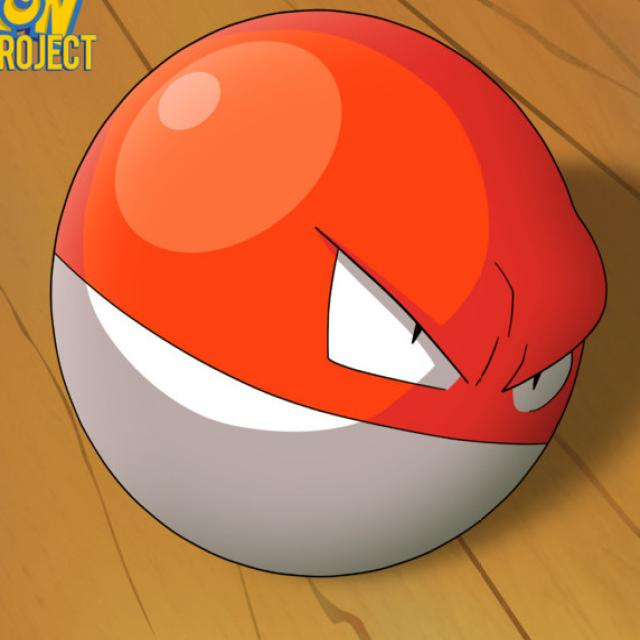Voltorb: (47, 8, 601, 574)
